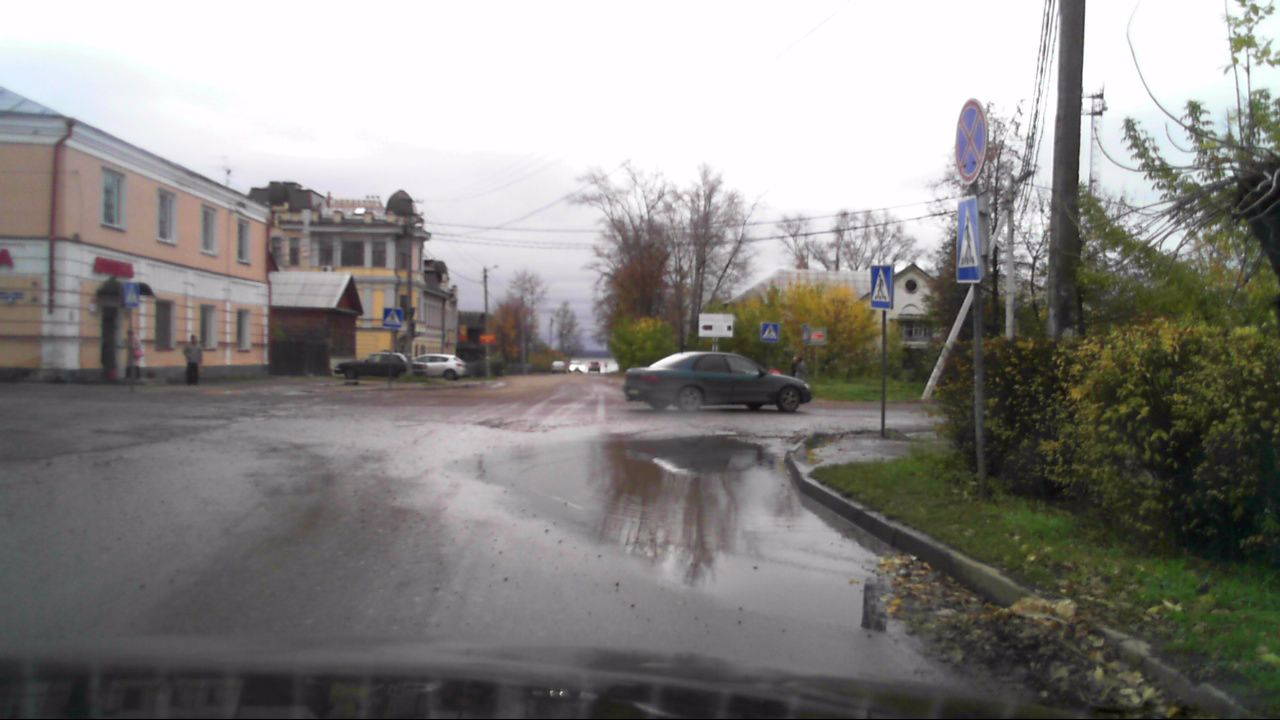No Parking: (955, 98, 988, 185)
